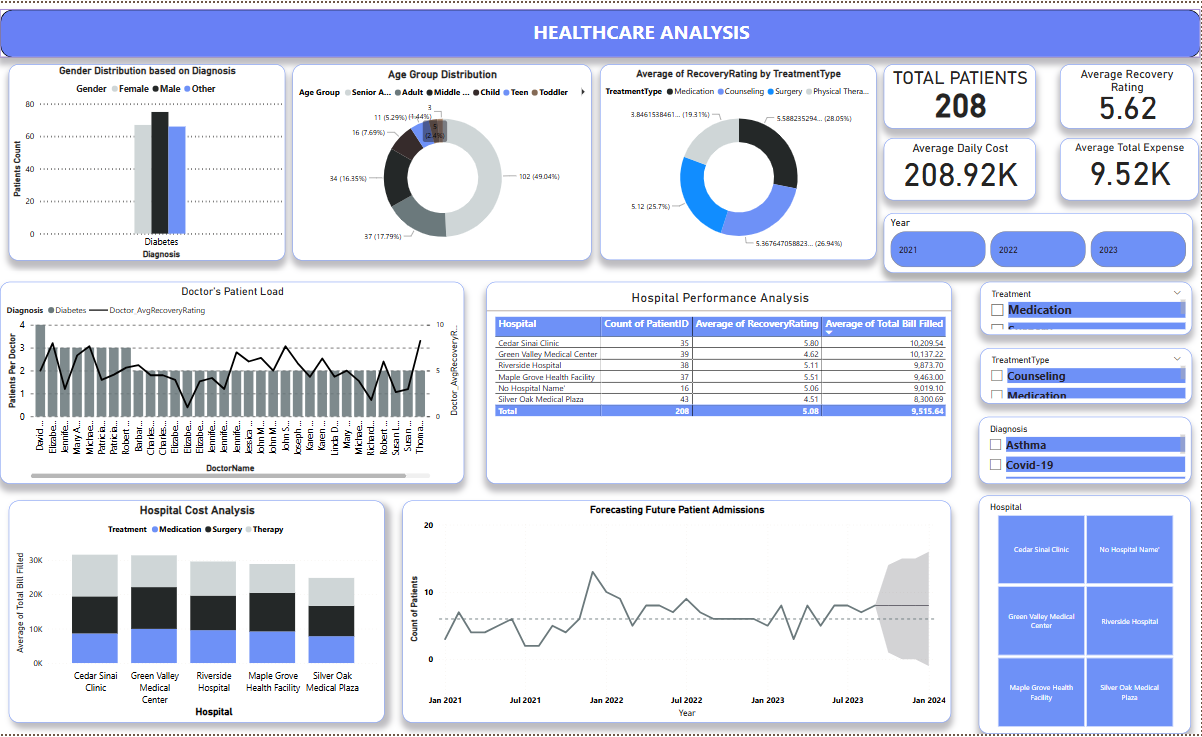

The dashboard page shown, as its layout file describes it:
{"tool":"powerbi","page":{"name":"Dashboard","canvas":[2001,1218],"ordinal":10},"visuals":[{"type":"shape","box":[0,10.4,2000.2,79.7],"z":0},{"type":"textbox","box":[0,20.3,1600.1,59.6],"z":1000},{"type":"clusteredColumnChart","title":"Gender Distribution based on Diagnosis","fields":{"Category":["Sheet1.Diagnosis"],"Y":["Sheet1.PatientID"],"Series":["Sheet1.Gender"]},"box":[14.5,101.7,460.7,327],"z":2000},{"type":"donutChart","title":"Age Group Distribution","fields":{"Category":["Sheet1.Age Group"],"Y":["Sheet1.PatientID"]},"box":[486.9,101.7,498.5,327],"z":3000},{"type":"card","title":"TOTAL PATIENTS","fields":{"Values":["Sheet1.PatientID"]},"box":[1473.2,101.4,253.5,107],"z":4000},{"type":"card","title":"Average Daily Cost","fields":{"Values":["Sheet1.DailyCost"]},"box":[1473.9,224.6,253.6,104.3],"z":5000},{"type":"card","title":"Average Total Expense","fields":{"Values":["Sheet1.Total Bill Filled"]},"box":[1766.2,225.4,231,104.2],"z":6000},{"type":"card","title":"Average Recovery Rating","fields":{"Values":["Sheet1 (2).RecoveryRating"]},"box":[1766.2,101.5,222.1,107.4],"z":7000},{"type":"donutChart","fields":{"Category":["Sheet1.TreatmentType"],"Y":["Sheet1.RecoveryRating"]},"box":[1000,101.4,460.6,326.8],"z":8000},{"type":"advancedSlicerVisual","fields":{"Values":["Sheet1.AdmissionDate.Variation.Date Hierarchy.Year"]},"box":[1473.2,349.3,515.5,100],"z":9000},{"type":"lineStackedColumnComboChart","title":"Doctor''s Patient Load","fields":{"Category":["Sheet1.DoctorName"],"Y":["Sheet1.PatientsPerDoctor"],"Y2":["Sheet1.Doctor_AvgRecoveryRating"],"Series":["Sheet1.Diagnosis"]},"box":[0,464.3,773.5,336.7],"z":10000},{"type":"tableEx","title":"Hospital Performance Analysis ","fields":{"Values":["Sheet1.Hospital","Sheet1.PatientID","Sheet1.RecoveryRating","Sheet1.Total Bill Filled"]},"box":[809.9,464.8,776.1,336.6],"z":11000},{"type":"slicer","fields":{"Values":["Sheet1.Hospital"]},"box":[1631.9,820.3,353.6,397.1],"z":12000},{"type":"slicer","fields":{"Values":["Sheet1.Treatment"]},"box":[1632.4,464.8,353.5,88.7],"z":13000},{"type":"slicer","fields":{"Values":["Sheet1.TreatmentType"]},"box":[1632.4,574.6,353.5,93],"z":14000},{"type":"slicer","fields":{"Values":["Sheet1.Diagnosis"]},"box":[1631.8,689.4,354.5,112.1],"z":15000},{"type":"lineStackedColumnComboChart","title":"Hospital Cost Analysis","fields":{"Category":["Sheet1.Hospital"],"Series":["Sheet1.Treatment"],"Y":["Sheet1.Total Bill Filled"]},"box":[14.1,828.2,626.8,370.4],"z":16000},{"type":"lineChart","title":"Forecasting Future Patient Admissions","fields":{"Y":["Sheet1.PatientName"],"Category":["Sheet1.AdmissionDate.Variation.Date Hierarchy.Year","Sheet1.AdmissionDate.Variation.Date Hierarchy.Quarter","Sheet1.AdmissionDate.Variation.Date Hierarchy.Month"]},"box":[671.8,828.2,914.1,370.4],"z":17000}]}

Visuals, with their boxes in screenshot pixels (x1, y1, x2, y2), scaled from the page's 2001x1218 canvas onto the 1202x737 screenshot:
shape: region(0, 6, 1201, 55)
textbox: region(0, 12, 961, 48)
"Gender Distribution based on Diagnosis" clusteredColumnChart: region(9, 62, 285, 259)
"Age Group Distribution" donutChart: region(292, 62, 592, 259)
"TOTAL PATIENTS" card: region(885, 61, 1037, 126)
"Average Daily Cost" card: region(885, 136, 1038, 199)
"Average Total Expense" card: region(1061, 136, 1200, 199)
"Average Recovery Rating" card: region(1061, 61, 1194, 126)
donutChart - Sheet1.TreatmentType x Sheet1.RecoveryRating: region(601, 61, 877, 259)
advancedSlicerVisual - Sheet1.AdmissionDate.Variation.Date Hierarchy.Year: region(885, 211, 1195, 272)
"Doctor''s Patient Load" lineStackedColumnComboChart: region(0, 281, 465, 485)
"Hospital Performance Analysis " tableEx: region(487, 281, 953, 485)
slicer - Sheet1.Hospital: region(980, 496, 1193, 736)
slicer - Sheet1.Treatment: region(981, 281, 1193, 335)
slicer - Sheet1.TreatmentType: region(981, 348, 1193, 404)
slicer - Sheet1.Diagnosis: region(980, 417, 1193, 485)
"Hospital Cost Analysis" lineStackedColumnComboChart: region(8, 501, 385, 725)
"Forecasting Future Patient Admissions" lineChart: region(404, 501, 953, 725)
